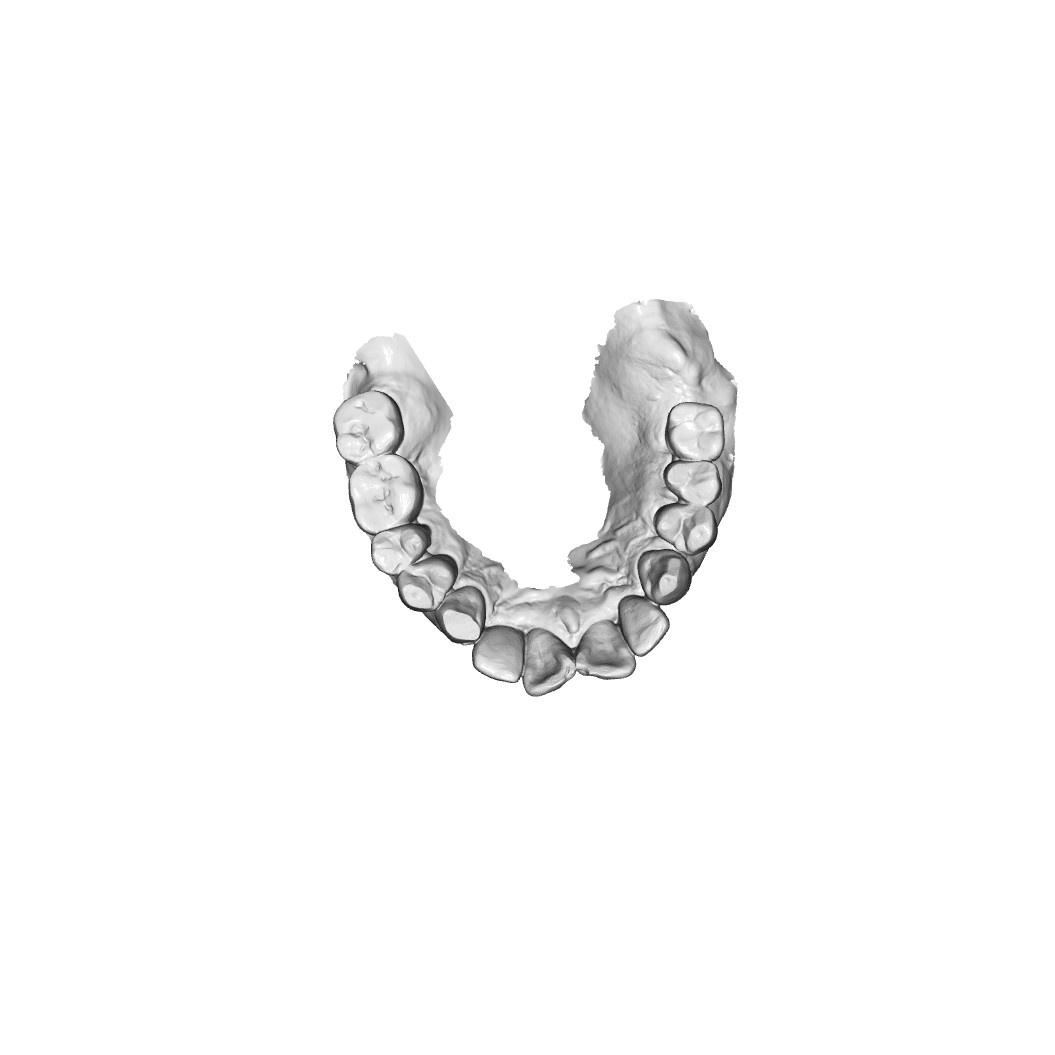canine: (639, 548, 697, 600), (441, 591, 495, 646)
incisor: (521, 623, 580, 699), (575, 617, 635, 682), (614, 593, 669, 659), (471, 623, 525, 687)
molar: (350, 460, 416, 528), (332, 395, 398, 456), (668, 400, 724, 457)
premolar: (657, 504, 720, 549), (666, 458, 720, 507), (401, 560, 457, 606), (369, 527, 426, 572)
